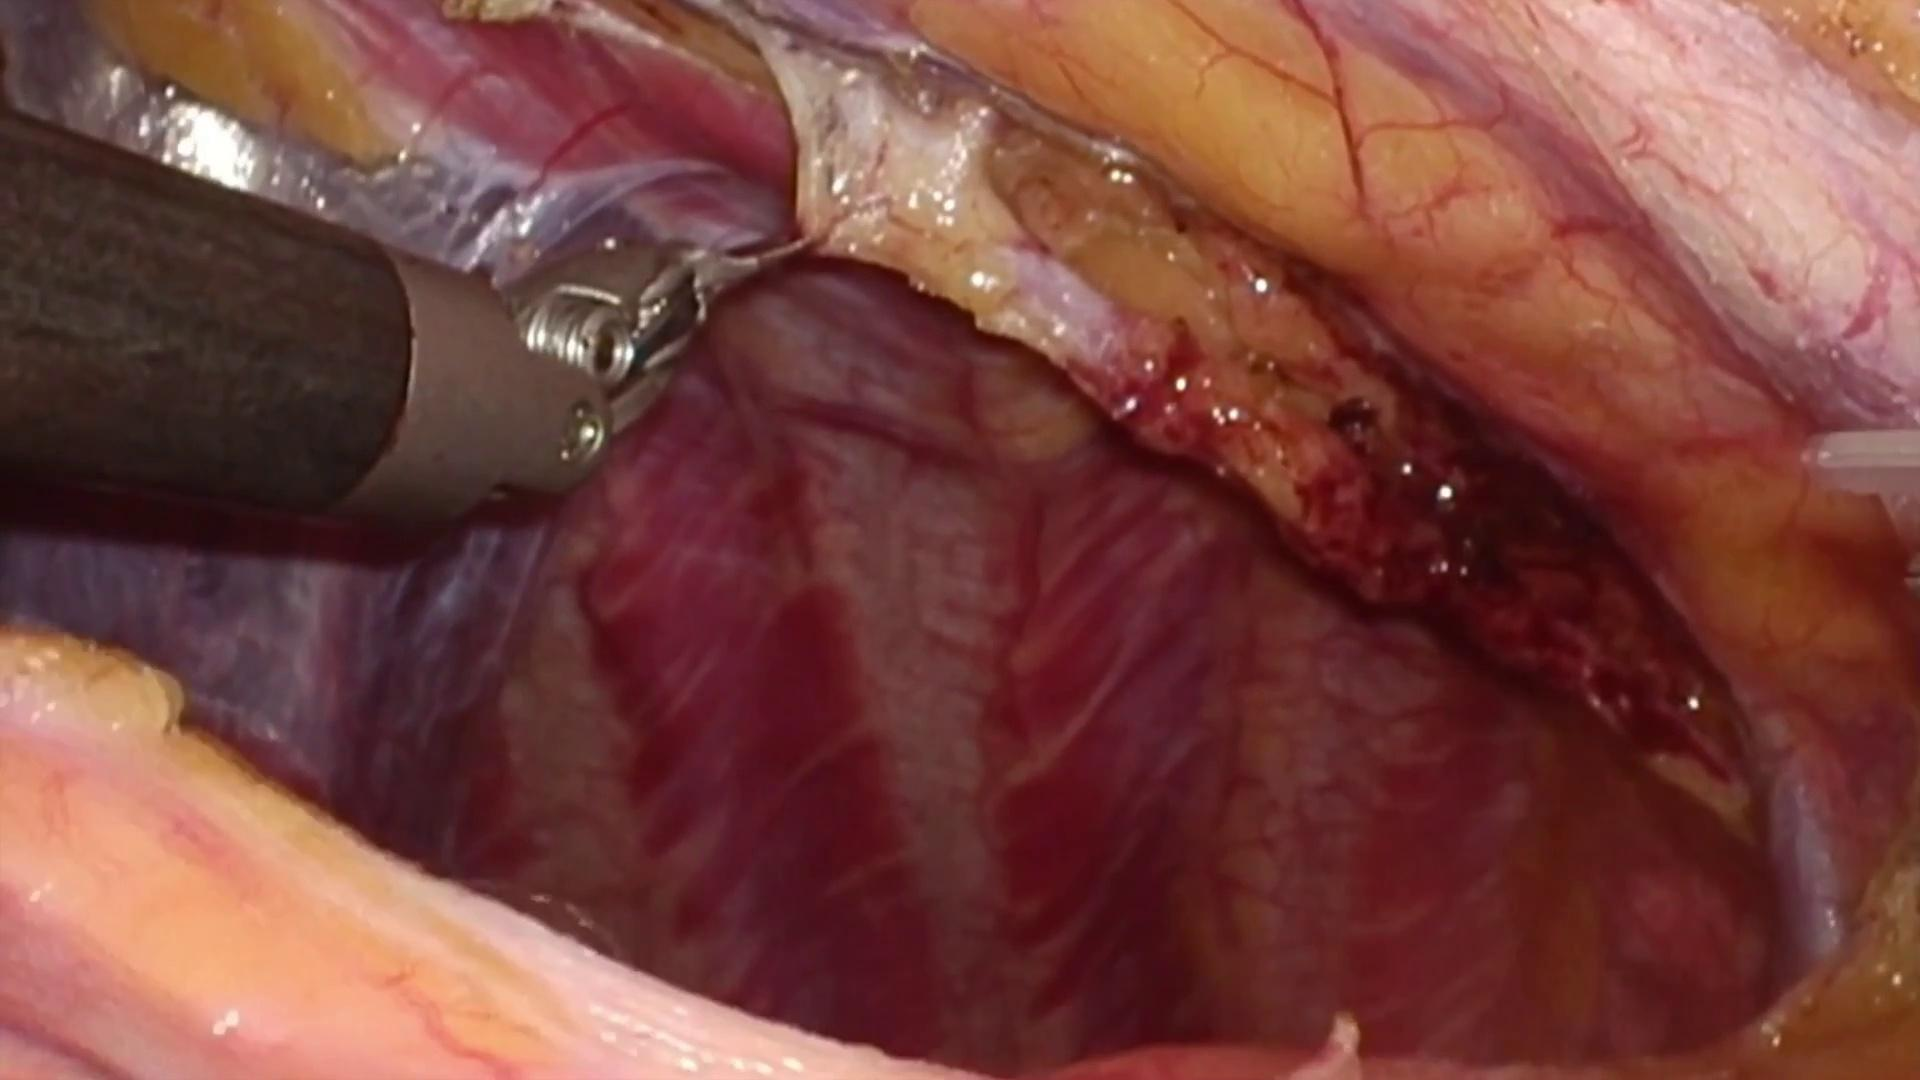Debakey: (669, 211, 831, 322)
clipper: (1793, 418, 1920, 603)
